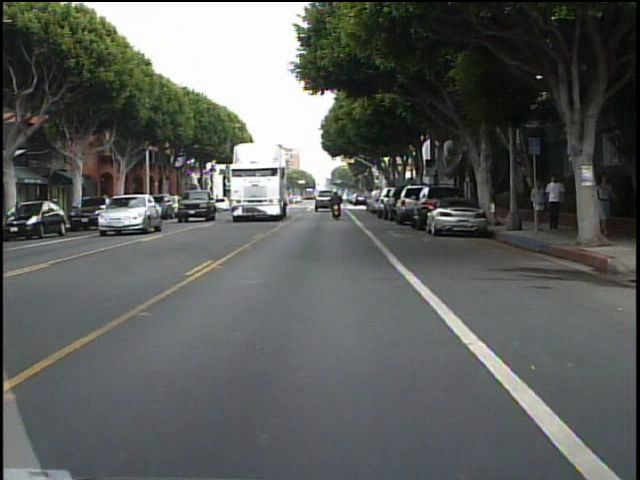person: (594, 172, 615, 238), (546, 174, 566, 235), (529, 176, 548, 233), (327, 188, 347, 220)
